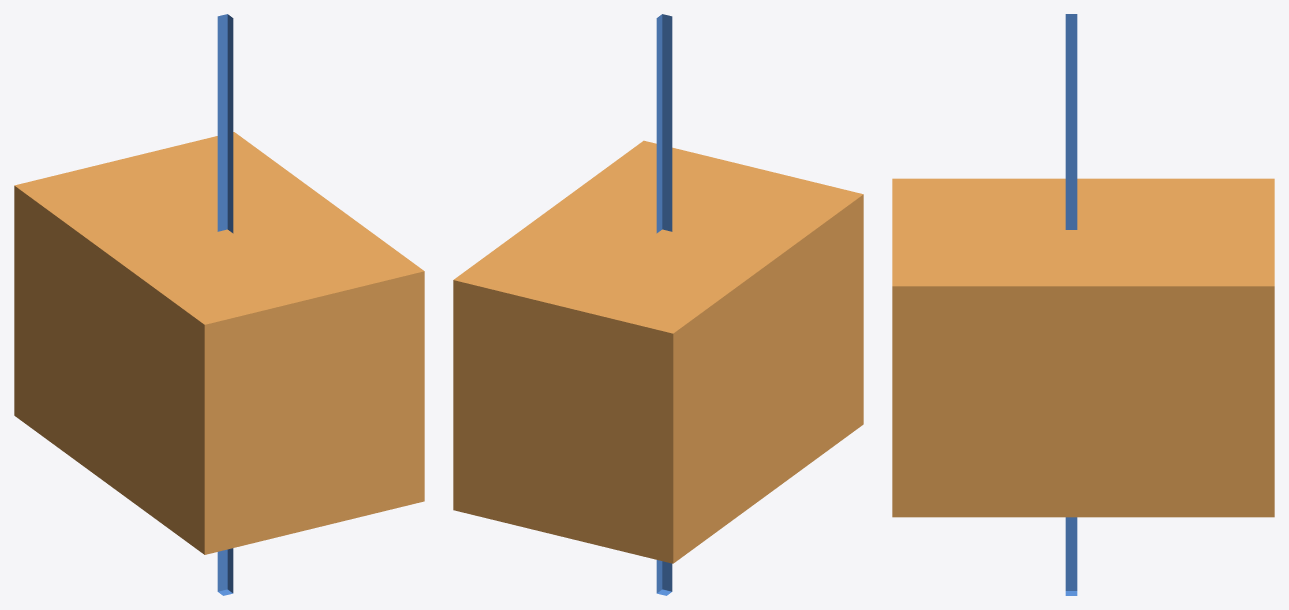
The model's file is box_mocap_push_case1_MWVOPT_20260331000186_20260331000186_1_1775288178.glb.
3 renders of one model, left to right at view 1: azimuth 30°, elevation 25°; view 2: azimuth 150°, elevation 25°; view 3: azimuth 270°, elevation 25°, orthographic.
Visible parts, largest first — view 1: prop_Box_I_1, bvh_bone_Hips_to_Spine; view 2: prop_Box_I_1, bvh_bone_Hips_to_Spine; view 3: prop_Box_I_1, bvh_bone_Hips_to_Spine.
Boxes of the visible parts, x1,y1,x2,y2 form: prop_Box_I_1: (14, 132, 424, 554); bvh_bone_Hips_to_Spine: (217, 14, 233, 595); prop_Box_I_1: (453, 140, 863, 563); bvh_bone_Hips_to_Spine: (656, 14, 672, 595); prop_Box_I_1: (892, 178, 1274, 517); bvh_bone_Hips_to_Spine: (1065, 14, 1077, 595).
Size of the model in its own units: 0.4 by 1 by 0.6.
